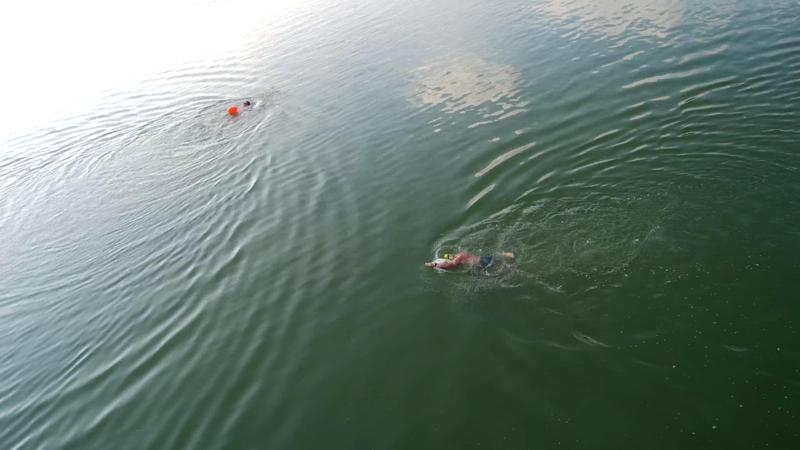swimmers: (422, 250, 517, 272)
